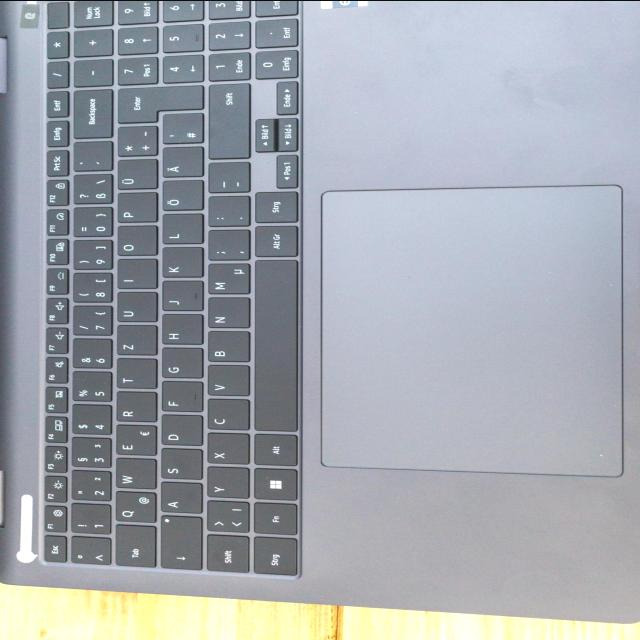0: (68, 209, 110, 239)
1: (66, 505, 108, 536)
2: (67, 472, 109, 503)
3: (66, 438, 108, 470)
4: (67, 406, 109, 437)
5: (68, 373, 110, 404)
6: (68, 340, 110, 370)
7: (68, 307, 110, 337)
8: (68, 275, 110, 305)
9: (68, 242, 110, 272)
a: (156, 483, 200, 515)
accent: (67, 144, 109, 174)
ae: (158, 148, 202, 180)
alt-left: (250, 435, 296, 468)
altgr-right: (250, 227, 295, 260)
b: (203, 332, 247, 365)
c: (203, 400, 248, 433)
caret: (67, 539, 109, 567)
comma: (203, 231, 247, 263)
d: (157, 416, 201, 448)
del: (68, 90, 110, 140)
e: (111, 426, 155, 458)
enter: (112, 87, 200, 125)
f: (157, 382, 201, 414)
g: (157, 349, 201, 381)
h: (157, 315, 201, 347)
hash: (158, 115, 200, 147)
i: (111, 260, 155, 292)
j: (157, 282, 201, 314)
k: (158, 248, 202, 280)
keyboard: (29, 0, 307, 584)
l: (157, 215, 201, 247)
less: (202, 502, 248, 535)
m: (204, 265, 248, 297)
minus: (204, 163, 248, 196)
n: (204, 299, 248, 331)
o: (112, 227, 156, 259)
oe: (158, 181, 202, 213)
p: (113, 193, 155, 225)
plus: (113, 127, 155, 159)
point: (203, 197, 247, 229)
q: (111, 492, 155, 526)
r: (111, 393, 155, 425)
s: (156, 450, 200, 482)
shift-left: (202, 536, 248, 576)
shift-lock: (156, 517, 200, 571)
shift-right: (203, 83, 247, 161)
space: (250, 261, 295, 433)
ss: (69, 177, 109, 207)
strg-left: (249, 537, 295, 579)
strg-right: (250, 192, 296, 225)
t: (112, 360, 154, 391)
tab: (110, 526, 154, 569)
u: (112, 294, 156, 325)
ue: (112, 160, 156, 192)
v: (203, 366, 248, 398)
w: (111, 459, 155, 491)
x: (203, 434, 248, 466)
y: (203, 467, 248, 500)
z: (111, 326, 155, 358)
